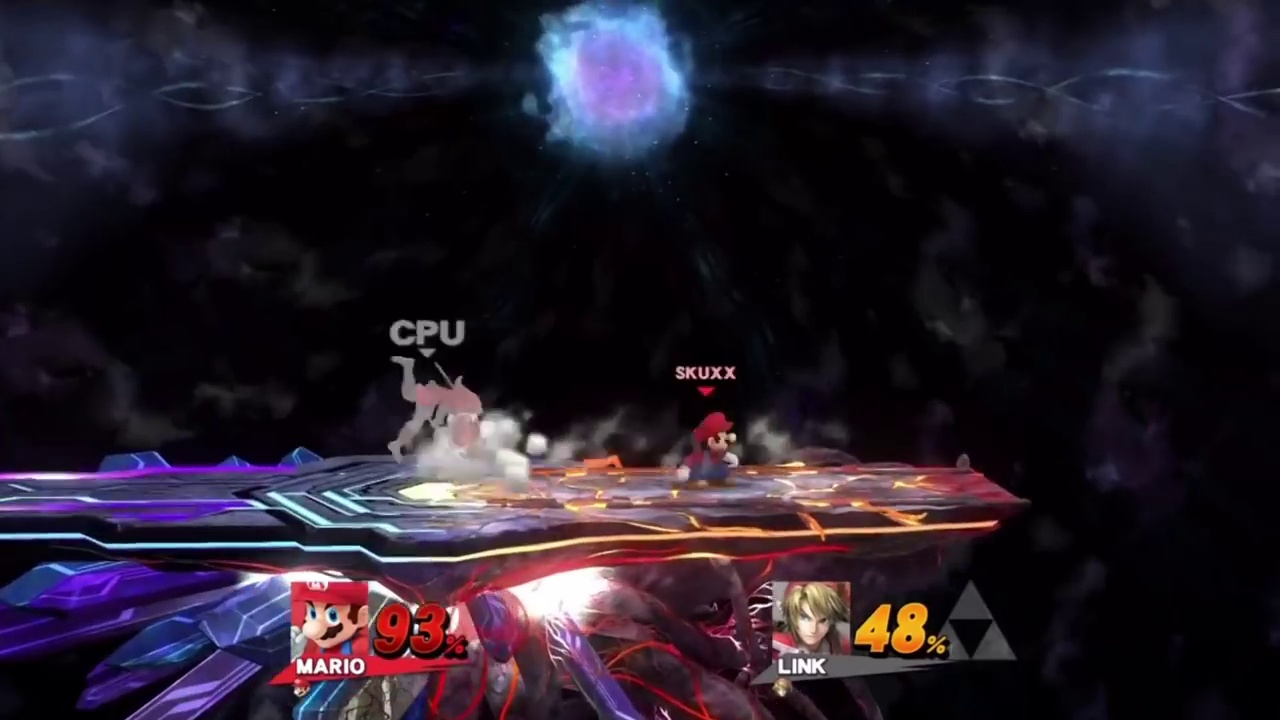Mario: (677, 410, 739, 486)
